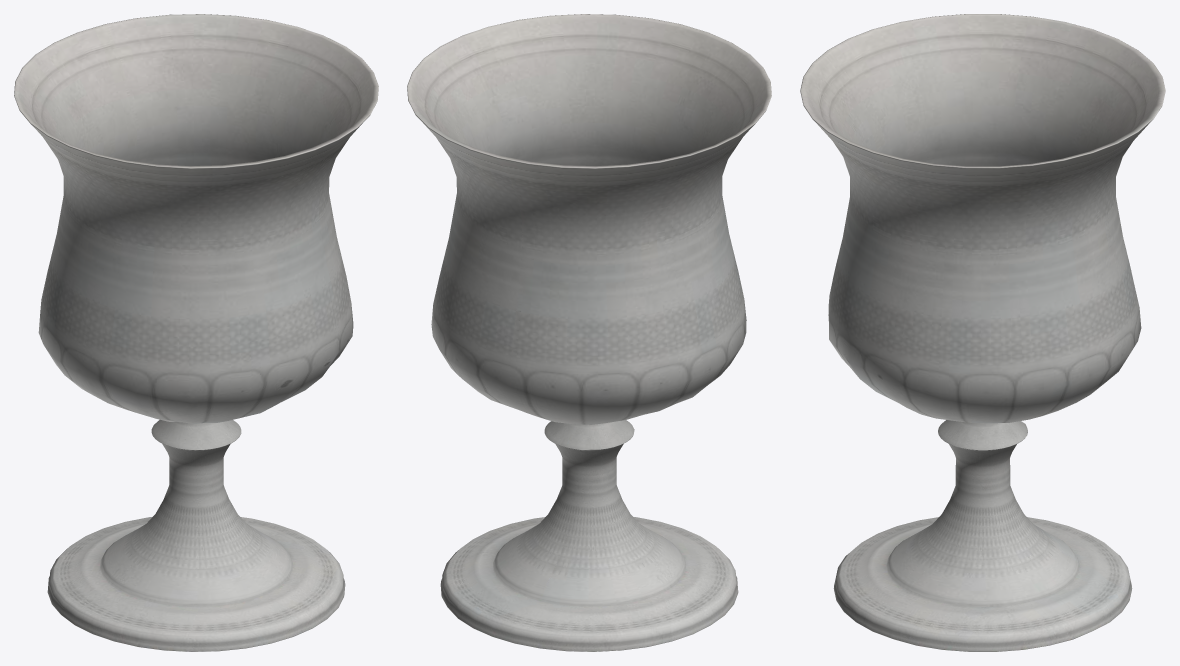
File: lyte-cup.glb
3 views of the same model, side by side, from view 1: azimuth 30°, elevation 25°; view 2: azimuth 150°, elevation 25°; view 3: azimuth 270°, elevation 25° (orthographic).
Parts seen in each view (by area): view 1: lyte-cup; view 2: lyte-cup; view 3: lyte-cup.
Part boxes in pixels (x1,y1,x2,y2): lyte-cup: [14, 14, 378, 651]; lyte-cup: [407, 14, 771, 651]; lyte-cup: [800, 14, 1165, 651].
Bounding box in the file's own units: 0.1919 × 0.29 × 0.1926.
1 material, 1 textured.
